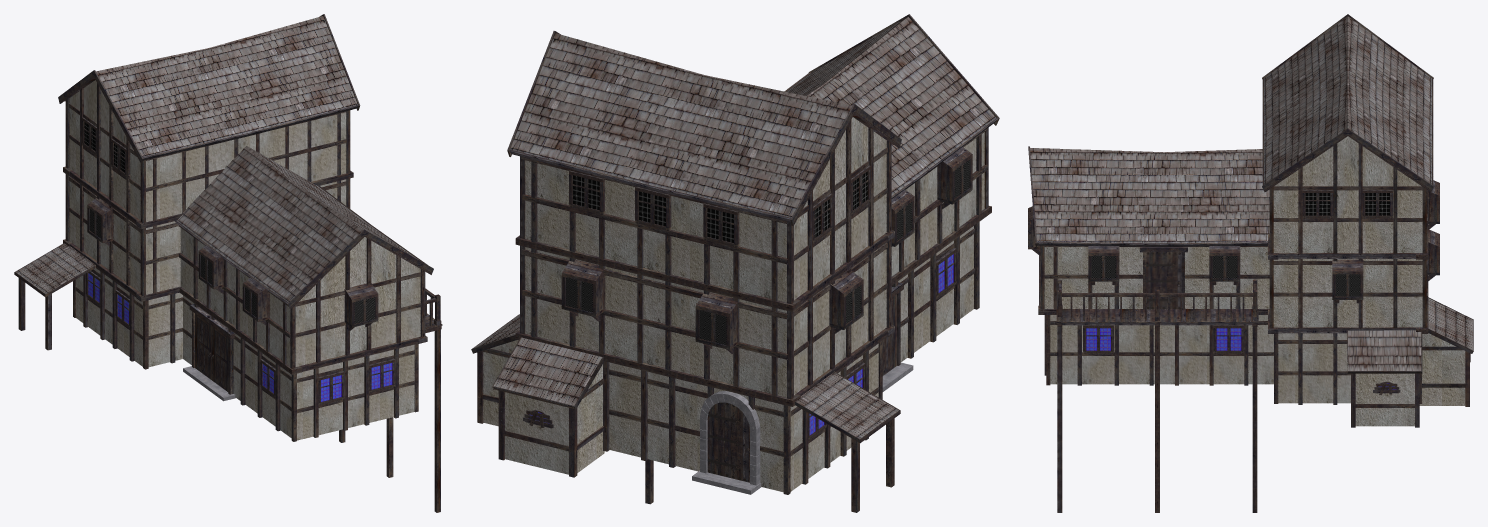
File: thouse06.dae
The picture shows the model from 3 angles, left to right: view 1: azimuth 30°, elevation 25°; view 2: azimuth 150°, elevation 25°; view 3: azimuth 270°, elevation 25°; orthographic projection. The views are drawn at different scales.
Parts seen in each view (by area): view 1: House2_Roof, House1_Roof, House1_Level2, House2_Level3, House1_Level1, House2_Level3_Beams, House2_Level2, House1_Level2_Beams, House1_Level1_Beams, House2_Level1, House2_Level2_Beams, House2_Level1_Beams (+16 smaller); view 2: House2_Roof, House2_Level3, House2_Level2, House1_Roof, House2_Level1, House2_Level3_Beams, House2_Level2_Beams, House2_Level1_Beams, BuildingExtensions4_001, BuildingExtensions4Roof_001, House1_Level1, Roof2Outer (+31 smaller); view 3: House1_Roof, House2_Roof, House2_Level3, House1_Level1, House2_Level2, House1_Level2, House2_Level1, House2_Level3_Beams, Balcony4Stilts, Balcony4, BuildingExtensions4Roof, House1_Level1_Beams (+29 smaller).
Part boxes in pixels (box(x1,y1,x2,y2)): House2_Roof: box(96, 16, 357, 157); House1_Roof: box(176, 146, 419, 302); House1_Level2: box(180, 228, 420, 366); House2_Level3: box(69, 80, 346, 221); House1_Level1: box(183, 295, 414, 440); House2_Level3_Beams: box(65, 83, 350, 223); House2_Level2: box(69, 177, 346, 294); House1_Level2_Beams: box(179, 225, 425, 368); House1_Level1_Beams: box(182, 297, 418, 441); House2_Level1: box(76, 268, 182, 367); House2_Level2_Beams: box(65, 174, 350, 296); House2_Level1_Beams: box(73, 269, 182, 369); House2_Roof: box(510, 33, 852, 217); House2_Level3: box(525, 117, 886, 302); House2_Level2: box(525, 243, 886, 397); House1_Roof: box(786, 17, 995, 195); House2_Level1: box(609, 343, 878, 492); House2_Level3_Beams: box(520, 120, 891, 303); House2_Level2_Beams: box(520, 240, 891, 399); House2_Level1_Beams: box(603, 341, 882, 494); BuildingExtensions4_001: box(505, 364, 604, 474); BuildingExtensions4Roof_001: box(493, 337, 602, 405); House1_Level1: box(898, 226, 973, 361); Roof2Outer: box(796, 372, 898, 438); House1_Roof: box(1030, 148, 1269, 243); House2_Roof: box(1264, 16, 1431, 184); House2_Level3: box(1273, 136, 1422, 252); House1_Level1: box(1050, 315, 1273, 384); House2_Level2: box(1273, 259, 1422, 327); House1_Level2: box(1044, 247, 1269, 308); House2_Level1: box(1278, 333, 1350, 403); House2_Level3_Beams: box(1269, 143, 1427, 253); Balcony4Stilts: box(1057, 326, 1257, 512); Balcony4: box(1056, 279, 1258, 322); BuildingExtensions4Roof: box(1348, 330, 1421, 370); House1_Level1_Beams: box(1044, 315, 1273, 385).
Bounding box in the file's own units: 11.38 × 14.35 × 14.09.
Materials: 29 (29 with a texture image).
